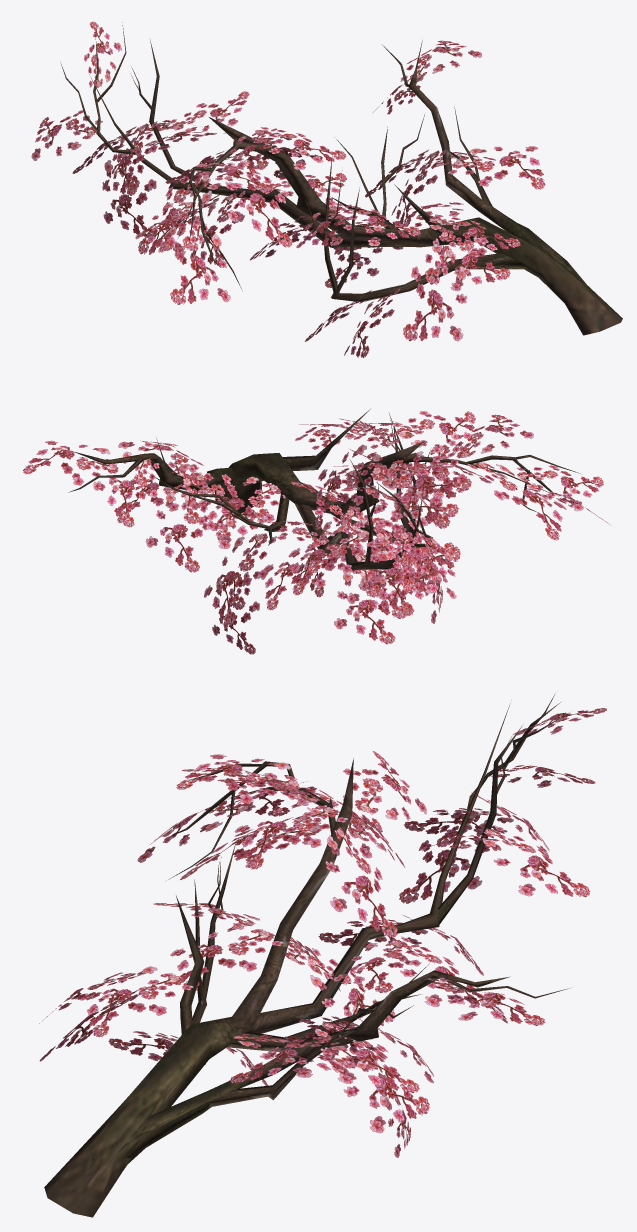
File: S_Tree_Red038_H1.FBX
3 views of the same model, one above another, from view 1: azimuth 30°, elevation 25°; view 2: azimuth 150°, elevation 25°; view 3: azimuth 270°, elevation 25° (orthographic). The views are drawn at different scales.
Visible parts, largest first — view 1: S_Tree_Red038_H1_2, S_Tree_Red038_H1_1; view 2: S_Tree_Red038_H1_2, S_Tree_Red038_H1_1; view 3: S_Tree_Red038_H1_2, S_Tree_Red038_H1_1.
Part boxes in pixels (bbox=[...]): S_Tree_Red038_H1_2: bbox=[31, 21, 545, 357]; S_Tree_Red038_H1_1: bbox=[60, 22, 622, 335]; S_Tree_Red038_H1_2: bbox=[23, 411, 609, 654]; S_Tree_Red038_H1_1: bbox=[69, 409, 580, 570]; S_Tree_Red038_H1_2: bbox=[39, 708, 606, 1157]; S_Tree_Red038_H1_1: bbox=[44, 694, 570, 1217].
Bounding box in the file's own units: 872 × 483 × 757.
Materials: 2 (2 with a texture image).
